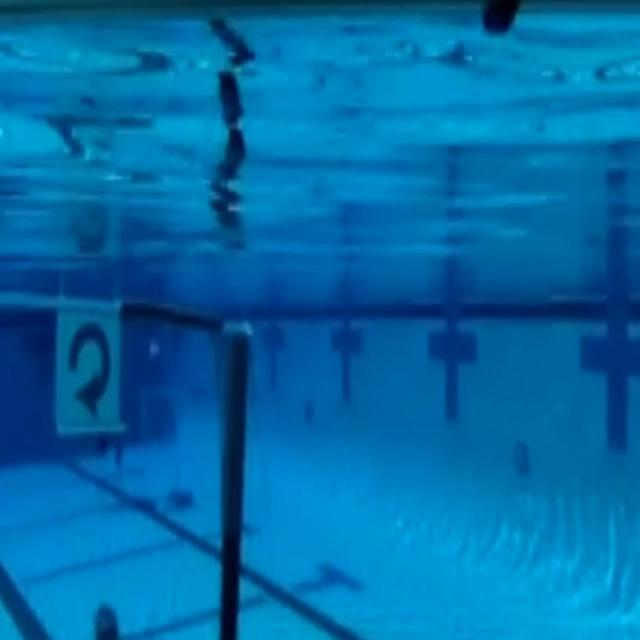Gate: (0, 269, 276, 631)
